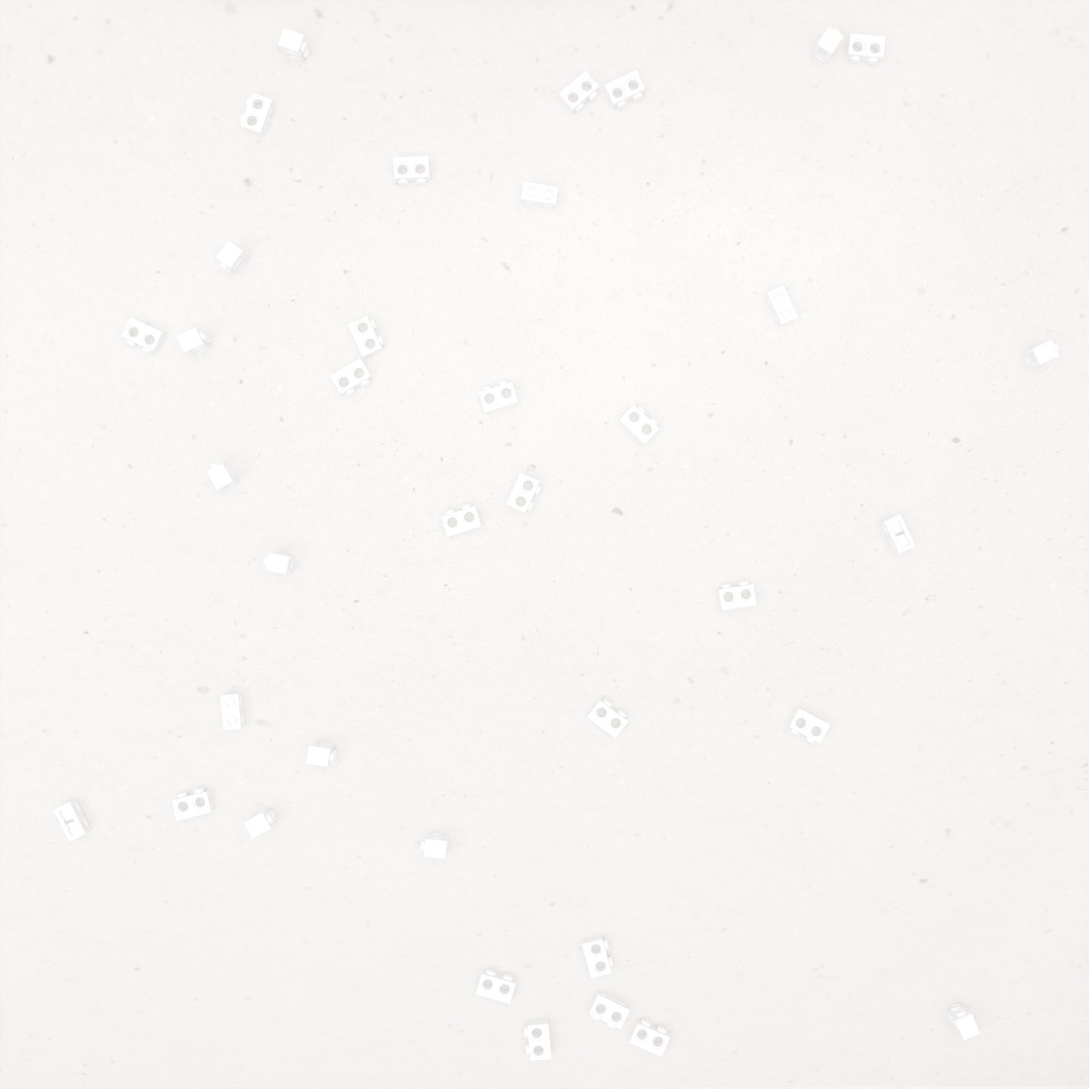lego: (559, 70, 599, 114), (121, 317, 167, 354), (618, 404, 659, 445), (604, 69, 645, 109), (628, 1018, 670, 1057), (53, 799, 91, 842), (787, 706, 830, 744), (330, 358, 373, 396), (239, 92, 275, 137), (589, 990, 630, 1029), (587, 699, 628, 738), (348, 316, 385, 359), (506, 472, 542, 514), (172, 787, 215, 821), (476, 968, 516, 1004), (880, 514, 916, 554), (764, 285, 798, 327), (582, 935, 614, 979), (478, 380, 519, 414), (441, 504, 482, 537), (845, 33, 886, 65), (946, 1003, 980, 1041), (811, 26, 844, 65), (717, 581, 757, 611), (278, 27, 311, 63), (524, 1018, 551, 1061), (216, 240, 250, 274), (393, 156, 431, 185), (1021, 340, 1059, 369), (521, 181, 559, 209), (244, 807, 277, 839), (176, 327, 211, 357), (206, 462, 240, 492), (220, 692, 245, 731), (306, 741, 337, 767), (421, 832, 449, 859), (263, 552, 295, 574)
